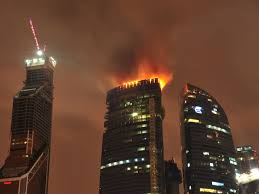fire: (102, 58, 181, 112)
